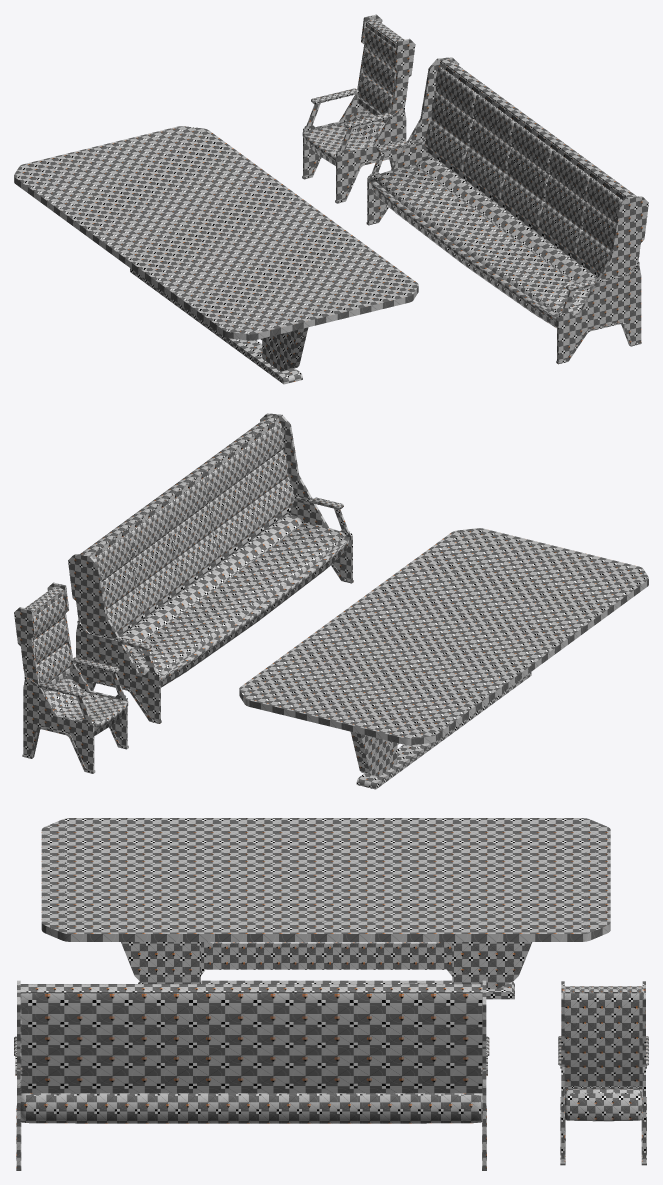
Rendered from Table_Gameready.FBX.
The picture shows the model from 3 angles, top to bottom: view 1: azimuth 30°, elevation 25°; view 2: azimuth 150°, elevation 25°; view 3: azimuth 270°, elevation 25°; orthographic projection. The views are drawn at different scales.
Parts seen in each view (by area): view 1: dssd, Box10816; view 2: dssd, Box10816; view 3: dssd, Box10816.
Boxes of the visible parts, left/top/right/bottom form: dssd: left=14, top=14, right=418, bottom=384; Box10816: left=366, top=57, right=648, bottom=364; dssd: left=14, top=528, right=648, bottom=789; Box10816: left=68, top=413, right=353, bottom=723; dssd: left=41, top=818, right=648, bottom=1165; Box10816: left=14, top=980, right=489, bottom=1170.
Size of the model in its own units: 176 by 62.8 by 196.
Materials: 1 (1 with a texture image).
